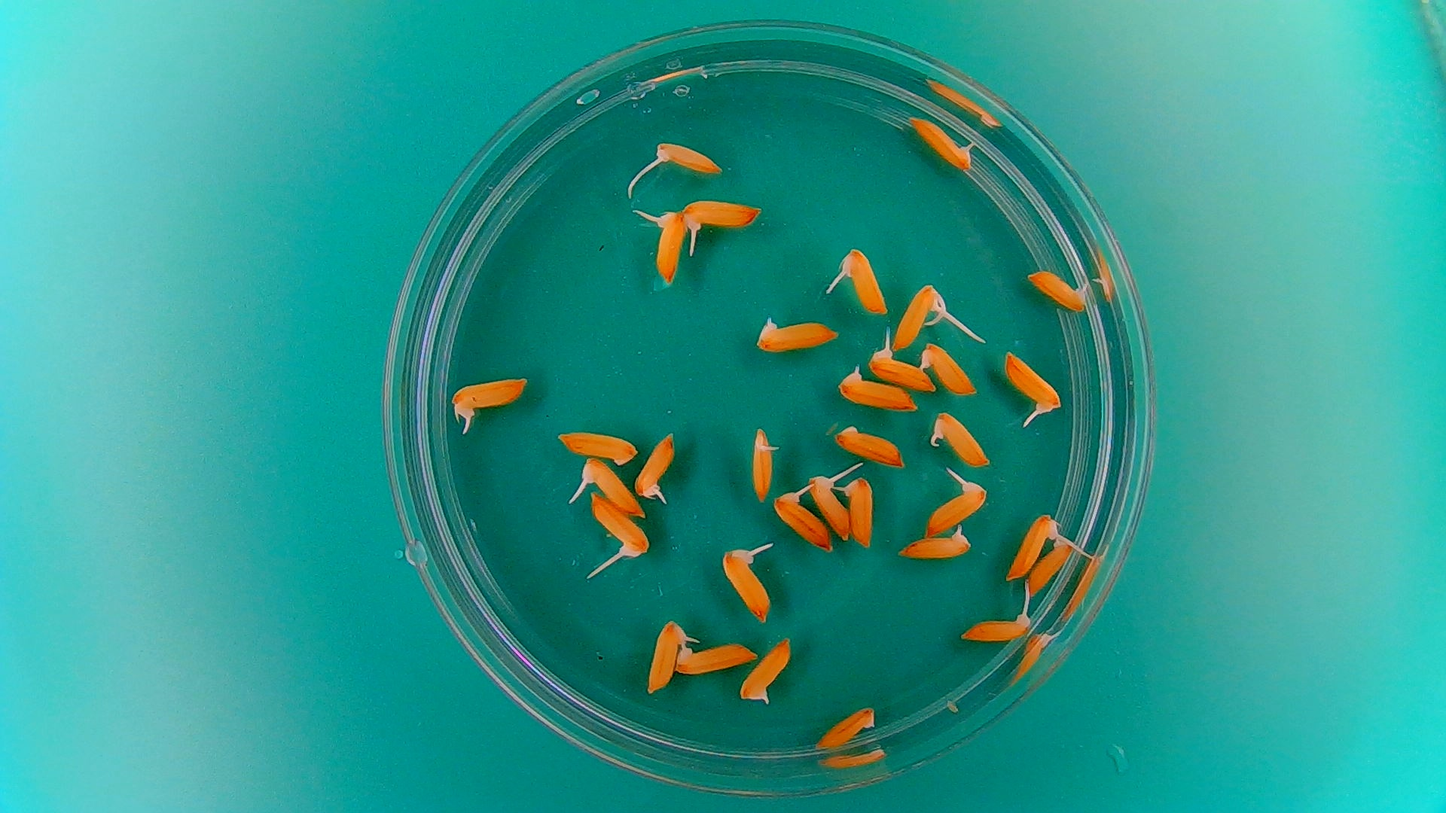no: (830, 420, 908, 468), (752, 313, 841, 355), (812, 702, 880, 752), (1026, 534, 1079, 596), (918, 341, 975, 397), (554, 430, 639, 465)
yes: (999, 351, 1063, 414), (579, 456, 643, 517), (739, 634, 792, 706), (923, 475, 985, 536), (1005, 510, 1058, 580), (927, 414, 993, 469), (721, 550, 772, 621), (772, 496, 834, 553), (808, 473, 855, 546), (906, 118, 970, 171), (673, 637, 761, 675), (866, 346, 938, 392), (590, 499, 648, 556), (891, 285, 940, 352), (452, 376, 527, 419), (643, 620, 684, 696), (1024, 266, 1091, 312), (843, 248, 889, 315), (635, 429, 676, 504), (834, 373, 914, 411), (895, 525, 975, 562), (844, 470, 877, 551), (654, 204, 688, 282), (681, 199, 762, 231), (748, 422, 779, 504), (957, 613, 1032, 644), (654, 141, 719, 175)
